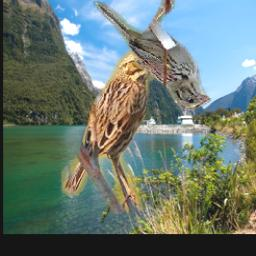Sparrow: (61, 50, 157, 215), (95, 0, 212, 110)
